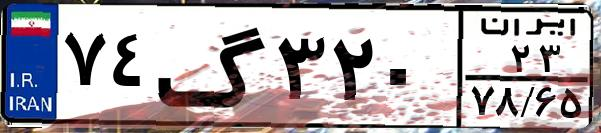0: (385, 28, 445, 110)
2: (330, 28, 385, 110), (508, 27, 537, 80)
3: (270, 28, 330, 110), (537, 27, 568, 80)
4: (110, 28, 156, 98)
5: (560, 70, 590, 125)
6: (535, 70, 560, 125)
7: (57, 26, 110, 100), (470, 70, 495, 125)
8: (495, 70, 520, 125)
گ: (156, 12, 270, 120)
